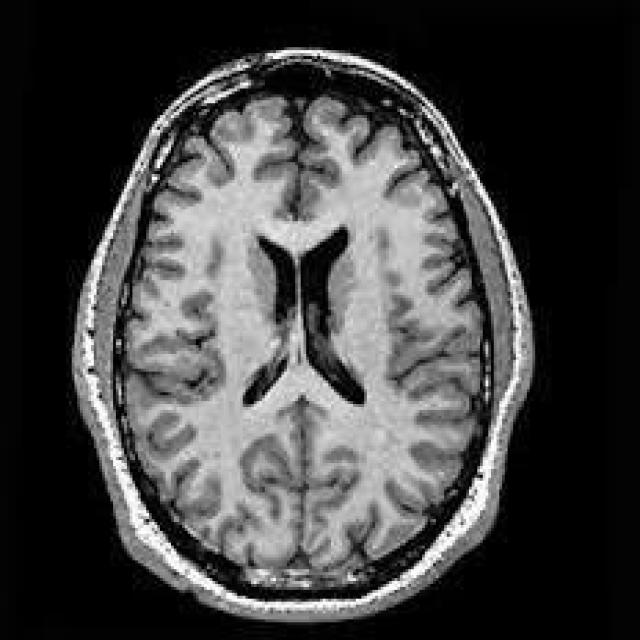no-tumor: (160, 174, 422, 490)
